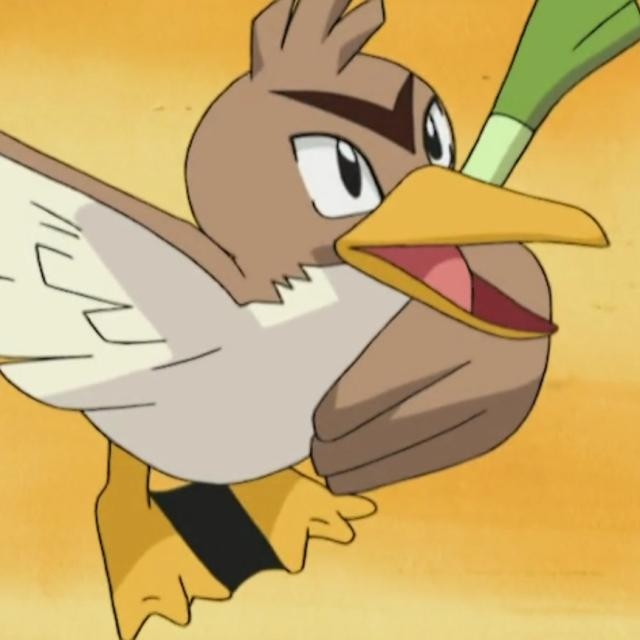Farfetchd: (5, 0, 577, 556)
